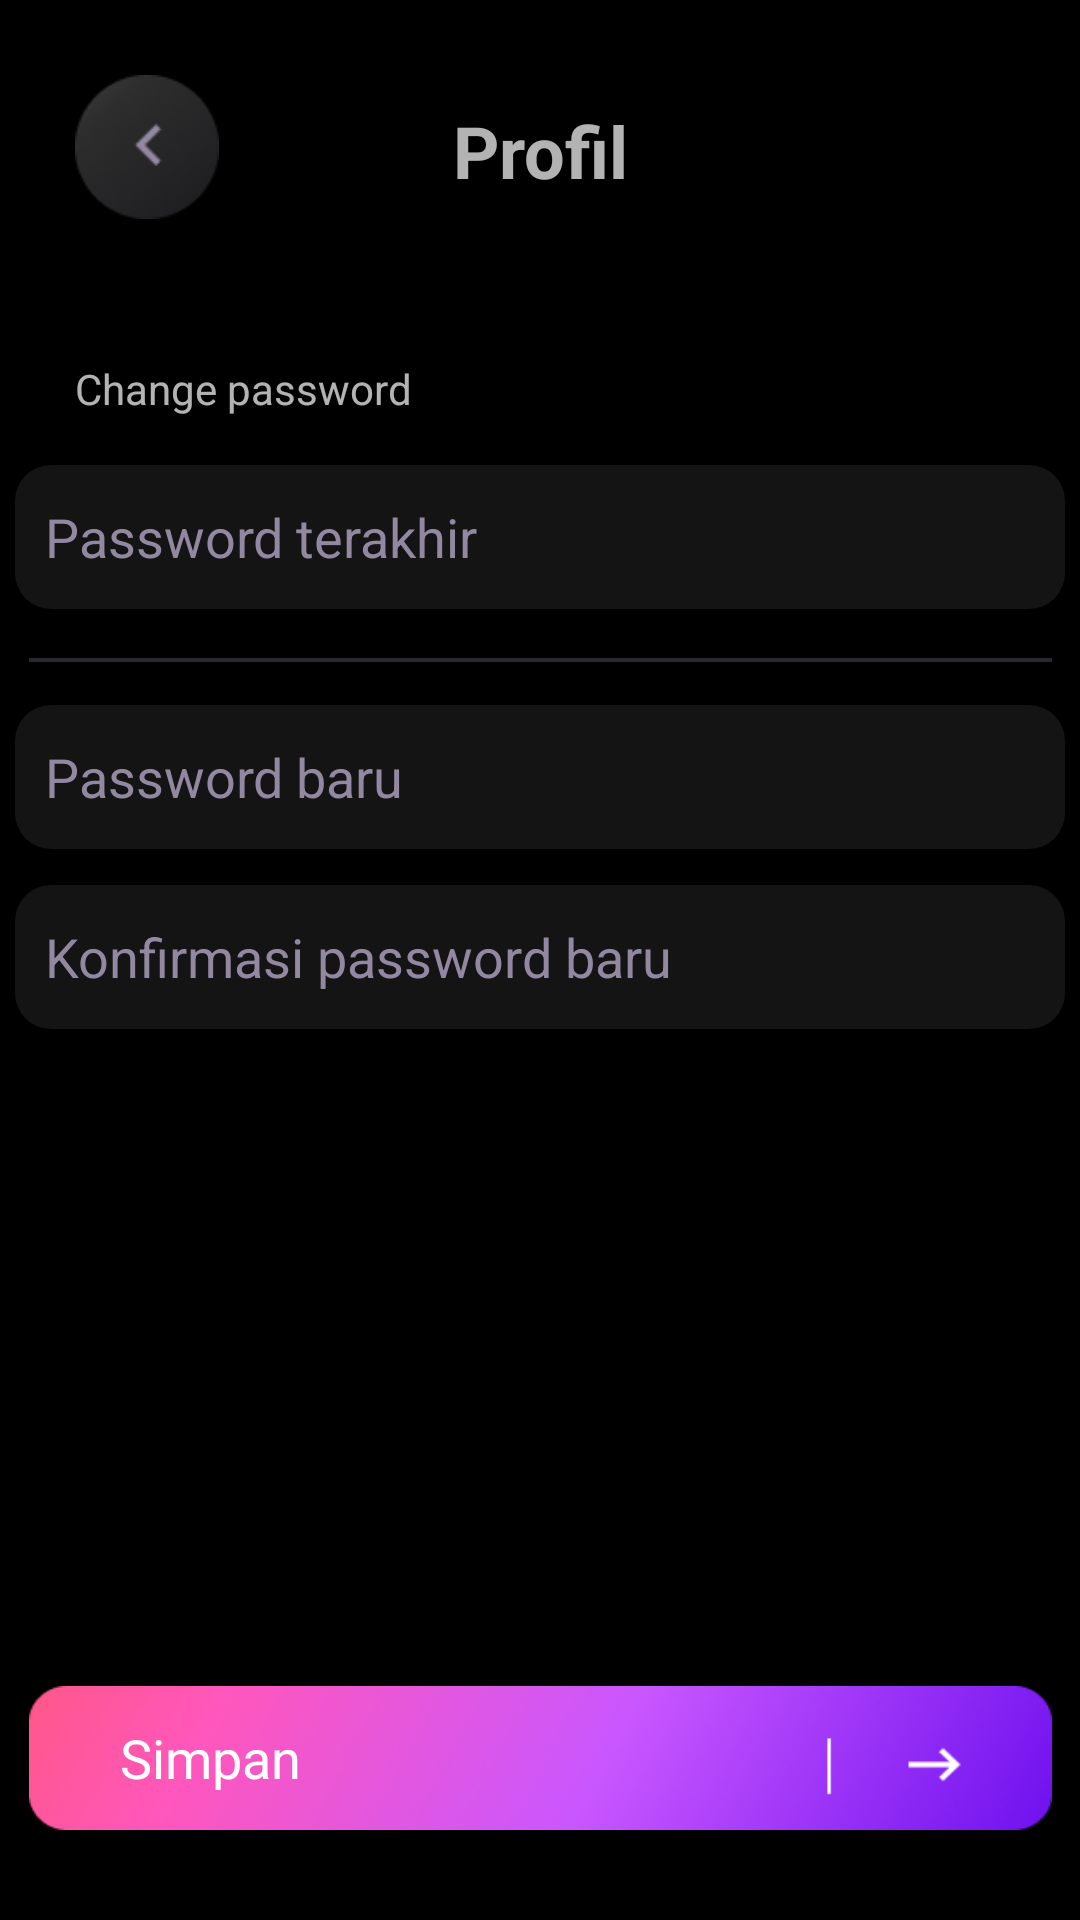

Icons on this 1080x1920 Android screen, each with the point to tap as [x,y]:
back: [147,147]
